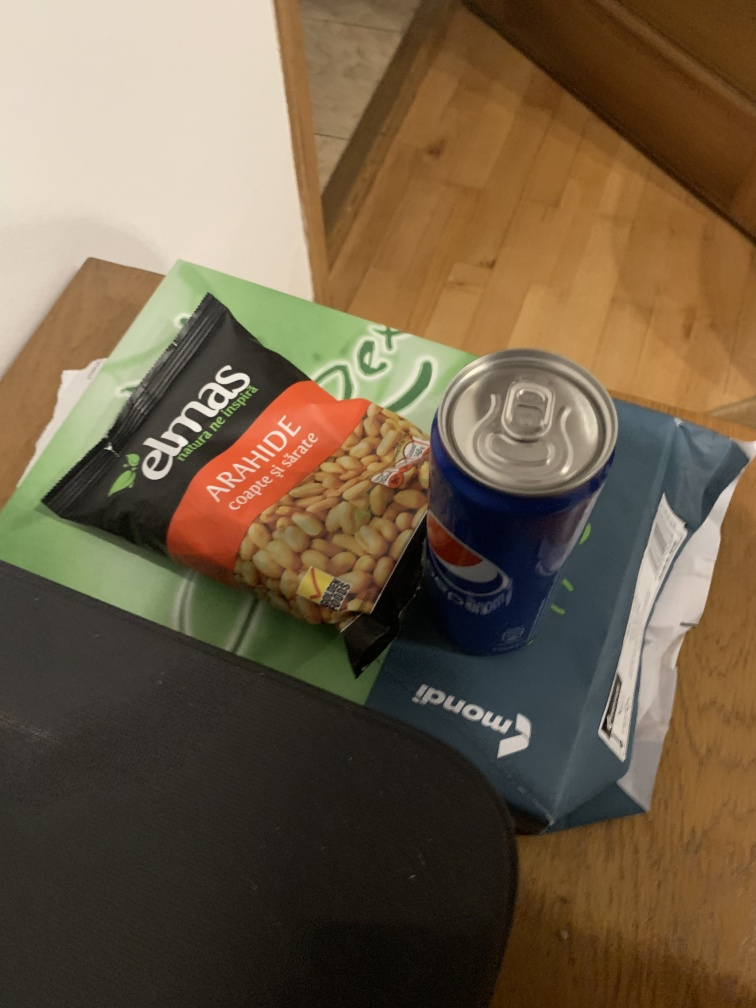peanuts: (47, 294, 429, 686)
pepsi: (410, 344, 622, 674)
